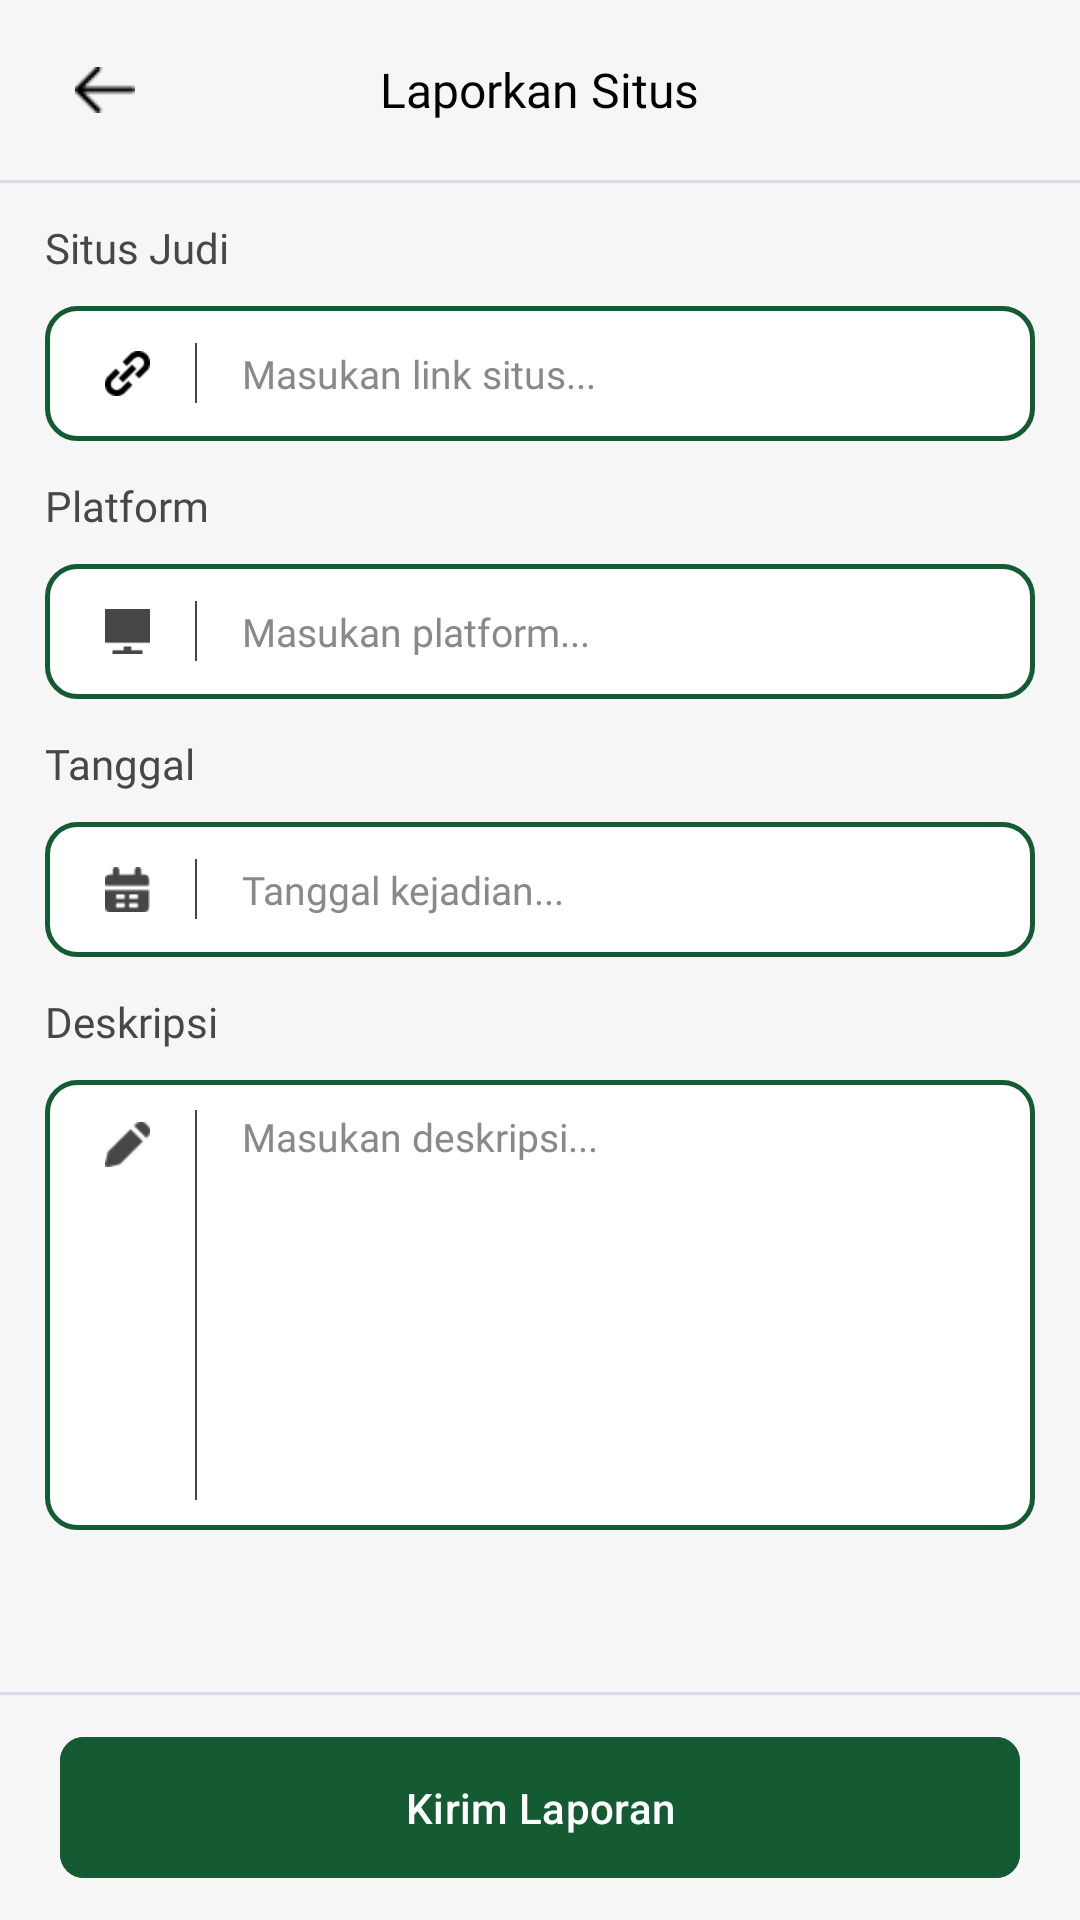

Named icons in this screenshot (1080 × 1920) and their bounding boxes, (x1, y1, x2, y2):
arrow left: (75, 67, 135, 113)
calendar: (105, 867, 150, 912)
pencil: (105, 1122, 150, 1167)
